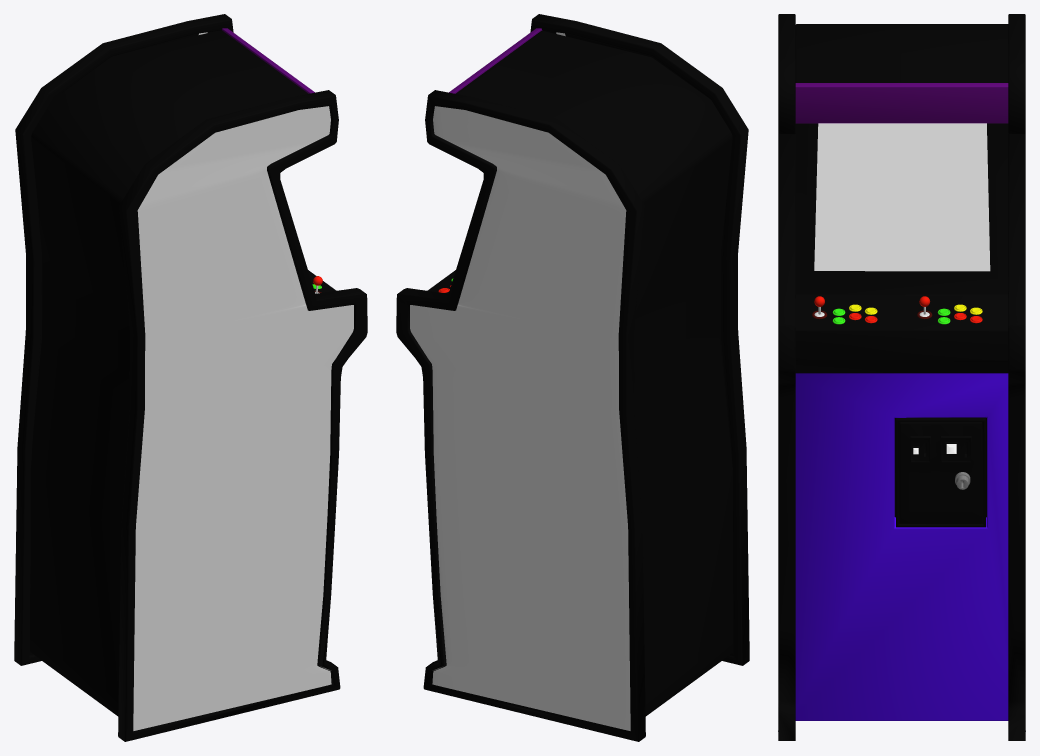
The model's file is arcade.glb.
The picture shows the model from 3 angles, left to right: view 1: azimuth 30°, elevation 25°; view 2: azimuth 150°, elevation 25°; view 3: azimuth 270°, elevation 25°; orthographic projection. The views are drawn at different scales.
Parts seen in each view (by area): view 1: Cube; view 2: Cube; view 3: Cube.
Part boxes in pixels (x1=…): Cube: x1=14, y1=14, x2=367, y2=741; Cube: x1=396, y1=14, x2=749, y2=741; Cube: x1=778, y1=14, x2=1025, y2=740.
Bounding box in the file's own units: 1.59 × 3.74 × 1.27.
14 materials, 1 textured.
